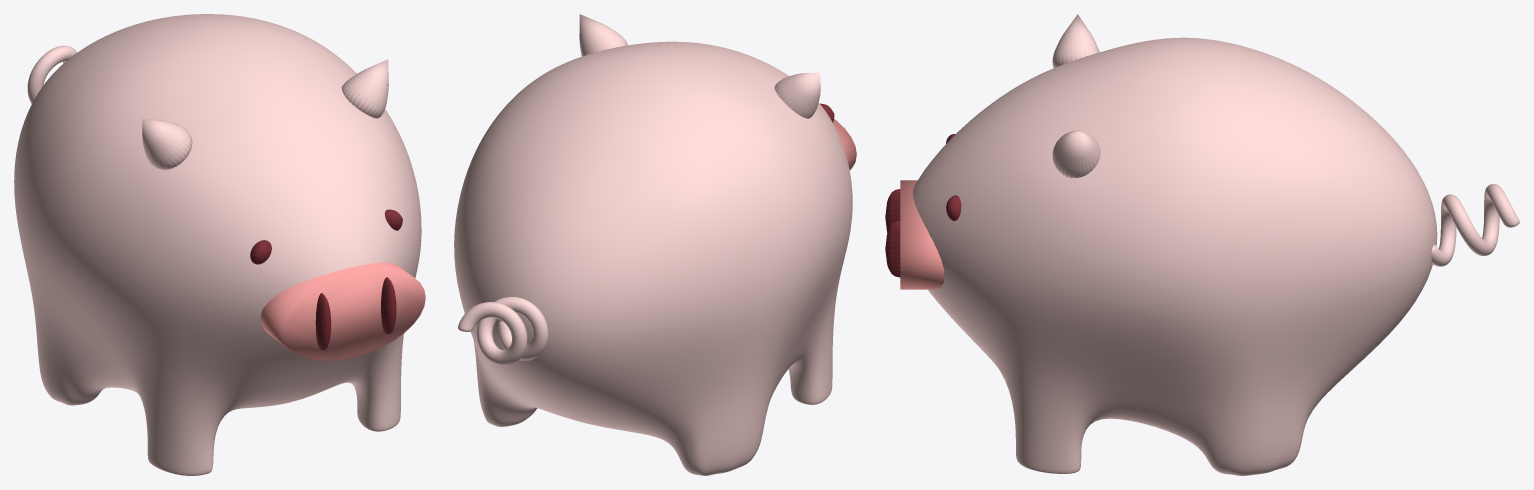
Rendered from pig.glb.
3 renders of one model, left to right at view 1: azimuth 30°, elevation 25°; view 2: azimuth 150°, elevation 25°; view 3: azimuth 270°, elevation 25°, orthographic. The views are drawn at different scales.
Parts seen in each view (by area): view 1: Cube, 円柱, 円錐, 円柱.001, 円, 円柱.002; view 2: Cube, 円, 円錐, 円柱; view 3: Cube, 円, 円柱, 円錐, 円柱.001.
Boxes of the visible parts, bbox=[...] form: Cube: bbox=[14, 14, 421, 475]; 円柱: bbox=[260, 262, 425, 360]; 円錐: bbox=[142, 59, 388, 169]; 円柱.001: bbox=[315, 277, 396, 350]; 円: bbox=[27, 45, 76, 103]; 円柱.002: bbox=[250, 209, 402, 264]; Cube: bbox=[454, 41, 852, 475]; 円: bbox=[458, 296, 548, 365]; 円錐: bbox=[579, 14, 820, 118]; 円柱: bbox=[833, 119, 856, 170]; Cube: bbox=[913, 37, 1437, 475]; 円: bbox=[1431, 184, 1519, 266]; 円柱: bbox=[900, 180, 944, 289]; 円錐: bbox=[1052, 14, 1100, 178]; 円柱.001: bbox=[885, 189, 900, 277].
Bounding box in the file's own units: 1.58 × 1.62 × 2.6.
